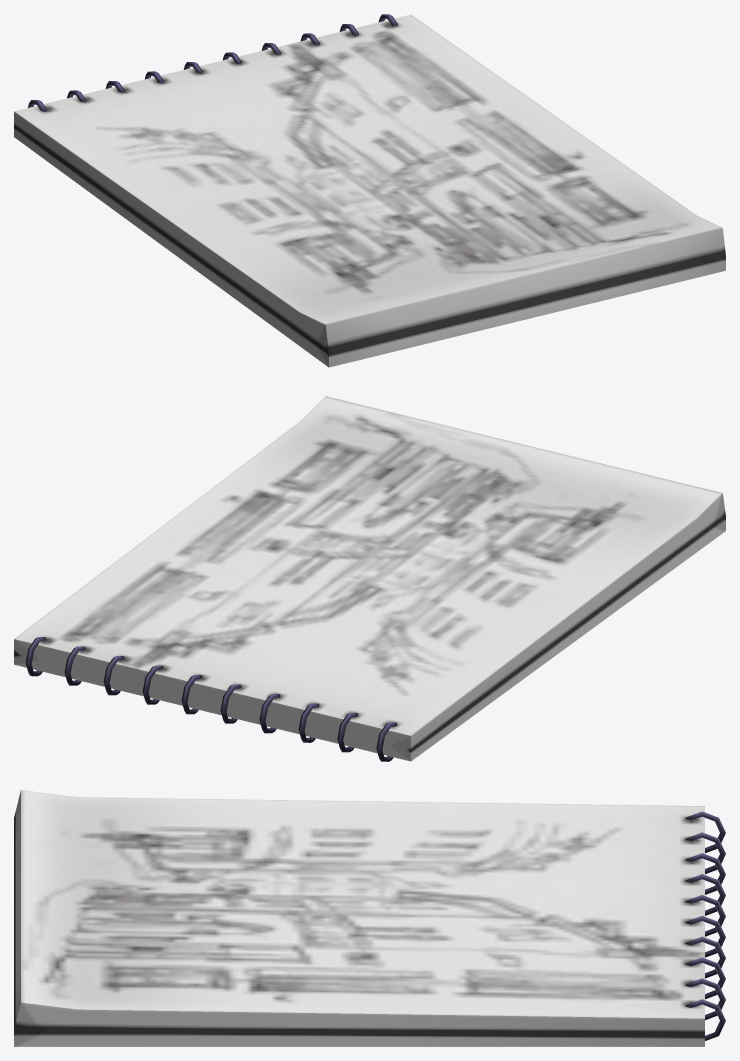
Rendered from ShaShouJia_01_suxieben_01.FBX.
3 views of the same model, one above another, from view 1: azimuth 30°, elevation 25°; view 2: azimuth 150°, elevation 25°; view 3: azimuth 270°, elevation 25° (orthographic). The views are drawn at different scales.
Parts seen in each view (by area): view 1: ShaShouJia_01_suxieben_01; view 2: ShaShouJia_01_suxieben_01; view 3: ShaShouJia_01_suxieben_01.
Part boxes in pixels (box(x1,y1,x2,y2)): ShaShouJia_01_suxieben_01: box(14, 14, 725, 367); ShaShouJia_01_suxieben_01: box(14, 396, 725, 761); ShaShouJia_01_suxieben_01: box(14, 790, 725, 1046).
Bounding box in the file's own units: 191 × 21.71 × 270.
